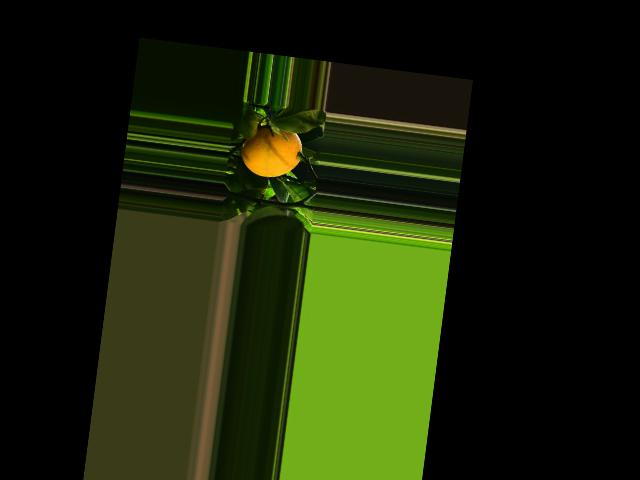lemon: (233, 117, 308, 196)
